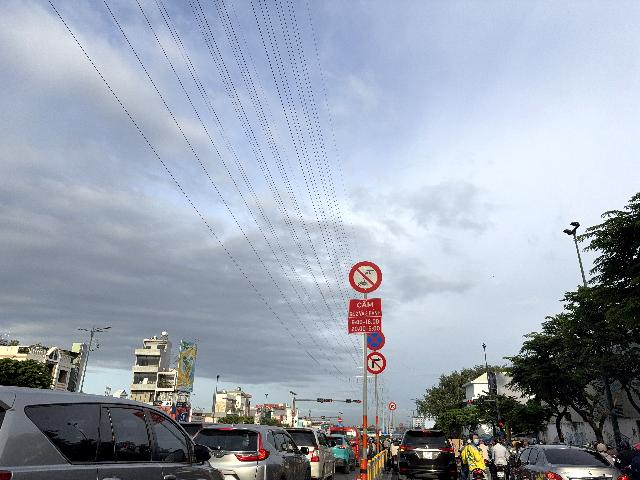cam-dung-va-do-xe: (368, 332, 386, 350)
cam-re-phai: (366, 352, 387, 374)
cam-xe-2-banh-3-banh: (348, 261, 383, 293)
